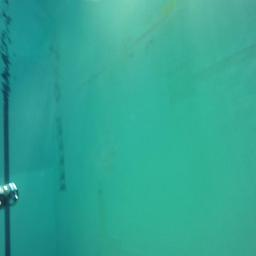front: (0, 182, 20, 206)
